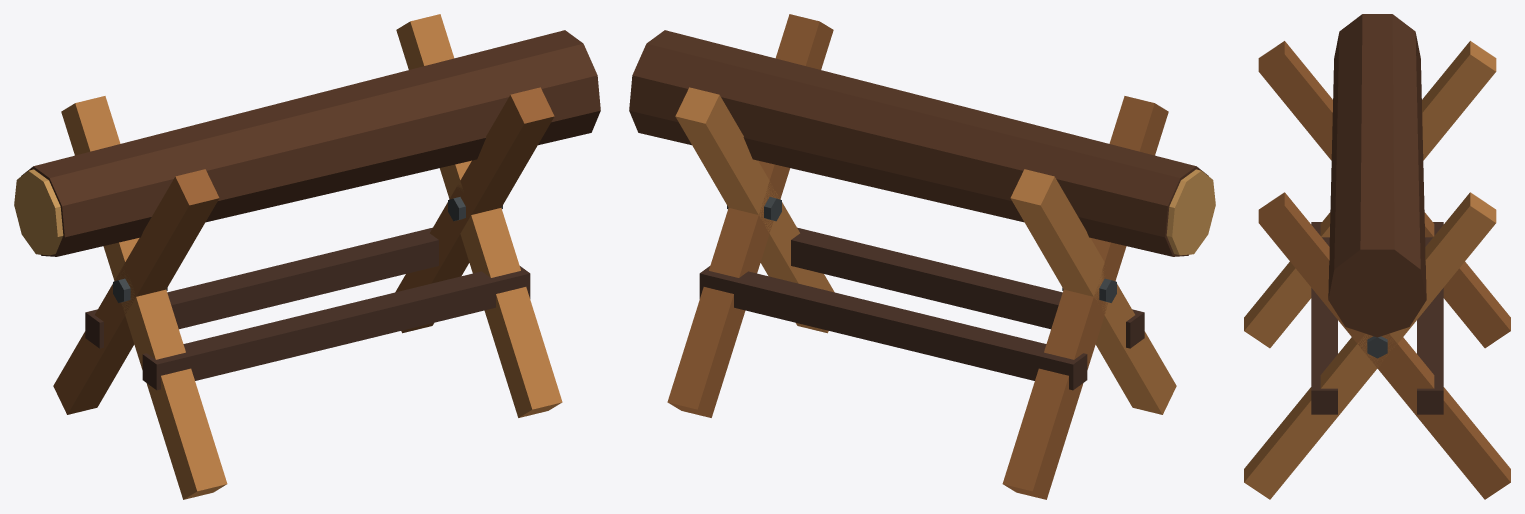
The model's file is 28_sawbuck.fbx.
The picture shows the model from 3 angles, left to right: view 1: azimuth 30°, elevation 25°; view 2: azimuth 150°, elevation 25°; view 3: azimuth 270°, elevation 25°; orthographic projection. The views are drawn at different scales.
Parts seen in each view (by area): view 1: 28_sawbuck; view 2: 28_sawbuck; view 3: 28_sawbuck.
Part boxes in pixels (x1,y1,x2,y2): 28_sawbuck: (14, 14, 600, 499); 28_sawbuck: (629, 14, 1215, 499); 28_sawbuck: (1244, 14, 1510, 499).
Size of the model in its own units: 1.96 by 1.11 by 0.9084.
Materials: 1 (1 with a texture image).
